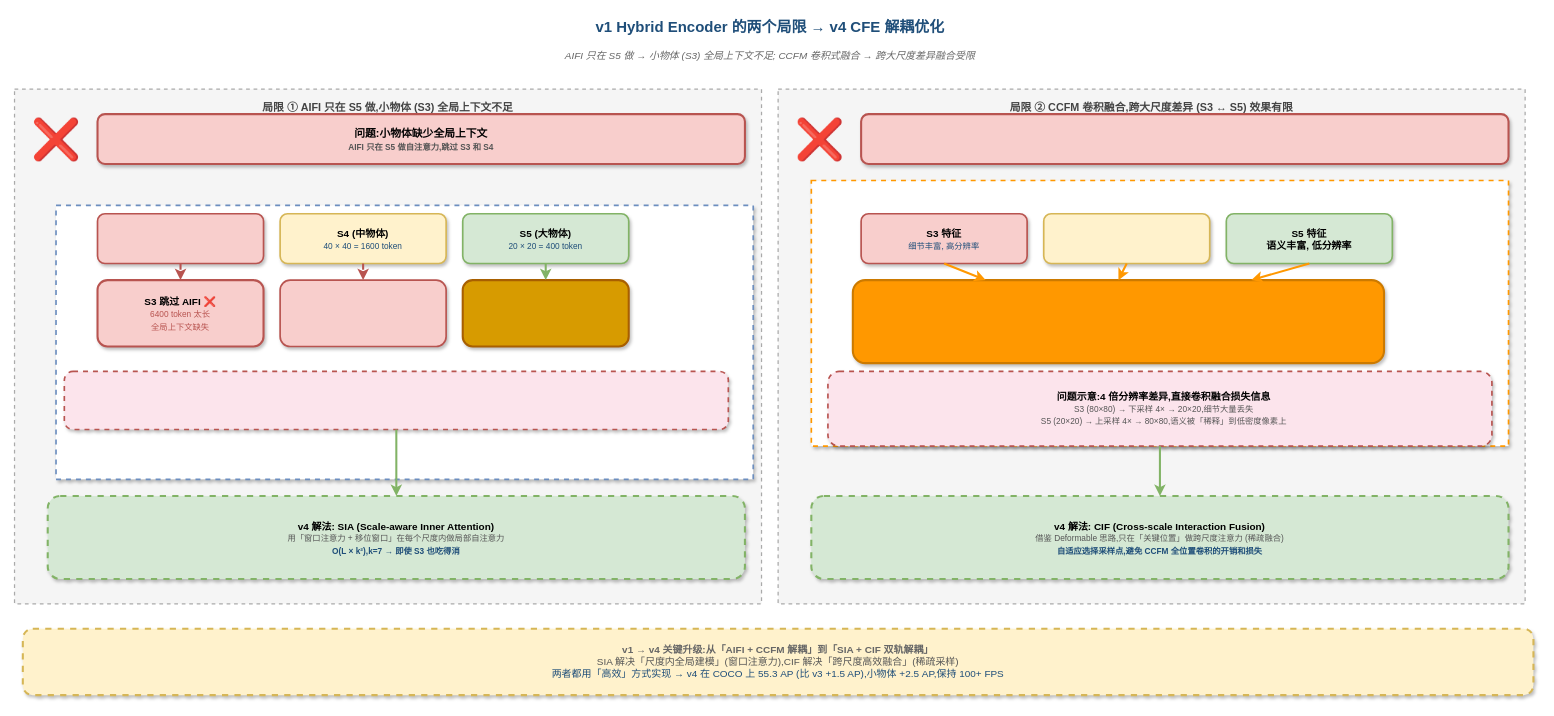
Image size: 1554x716. Some labels were removed from this diagram. Here are the shapes that lost their labels. From the top down, the centre of each, then its label:
pixel 1185 139: 问题:跨大尺度融合效果差 CCFM 用卷积式融合, S3 和 S5 差 4 倍分辨率
pixel 181 239: S3 (小物体) 80 × 80 = 6400 token
pixel 1127 239: S4 特征 中等分辨率
pixel 364 314: S4 跳过 AIFI ❌ 1600 token 也不做
pixel 546 314: AIFI 自注意力 ✓ 400 token 短序列 OK 全局上下文丰富
pixel 1119 322: CCFM (卷积式) 上/下采样 + 3×3 卷积 + 加权求和 问题: S3 和 S5 直接卷积融合 → 细节丢失 + 语义稀释
pixel 397 401: 直觉:远处的行人需要「看全图」才能判断是不是背景里的广告牌 但 S3 的 6400 token 序列太短 (相对完整图),没法做全局自注意力
